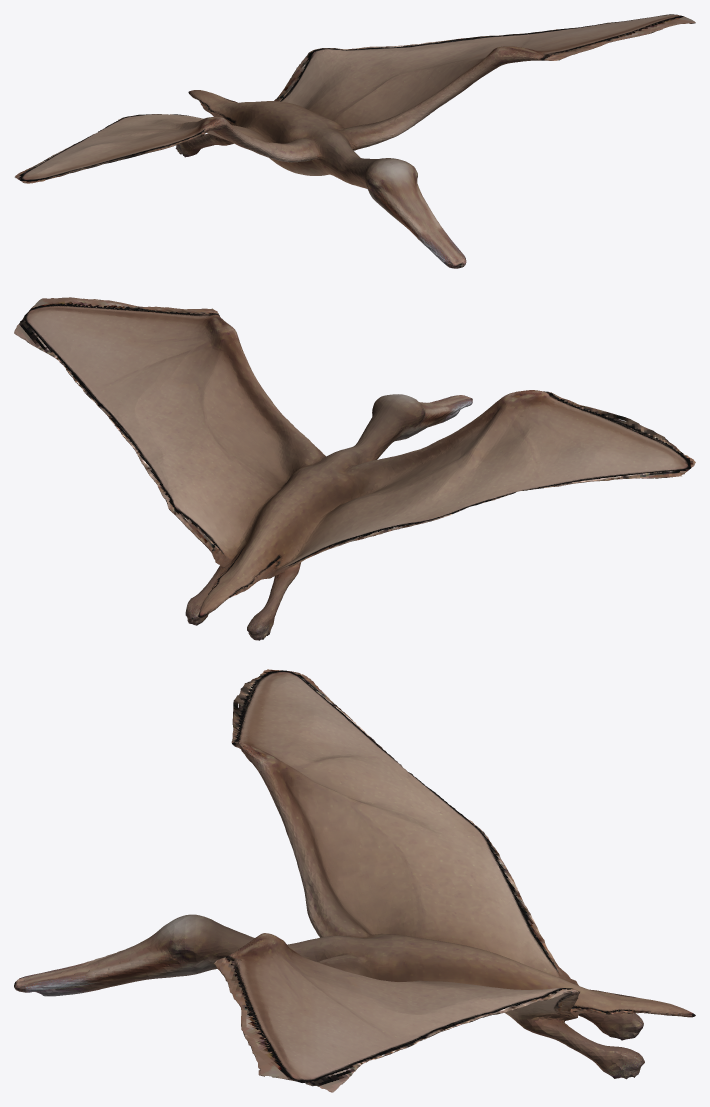
3 renders of one model, top to bottom at view 1: azimuth 30°, elevation 25°; view 2: azimuth 150°, elevation 25°; view 3: azimuth 270°, elevation 25°, orthographic. The views are drawn at different scales.
Visible parts, largest first — view 1: world; view 2: world; view 3: world.
Boxes of the visible parts, x1,y1,x2,y2 form: world: [14, 14, 695, 268]; world: [14, 297, 695, 640]; world: [14, 669, 695, 1092].
Bounding box in the file's own units: 1 × 0.2452 × 0.7051.
Materials: 1 (1 with a texture image).
